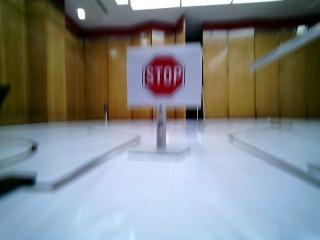stop: (131, 45, 200, 106)
